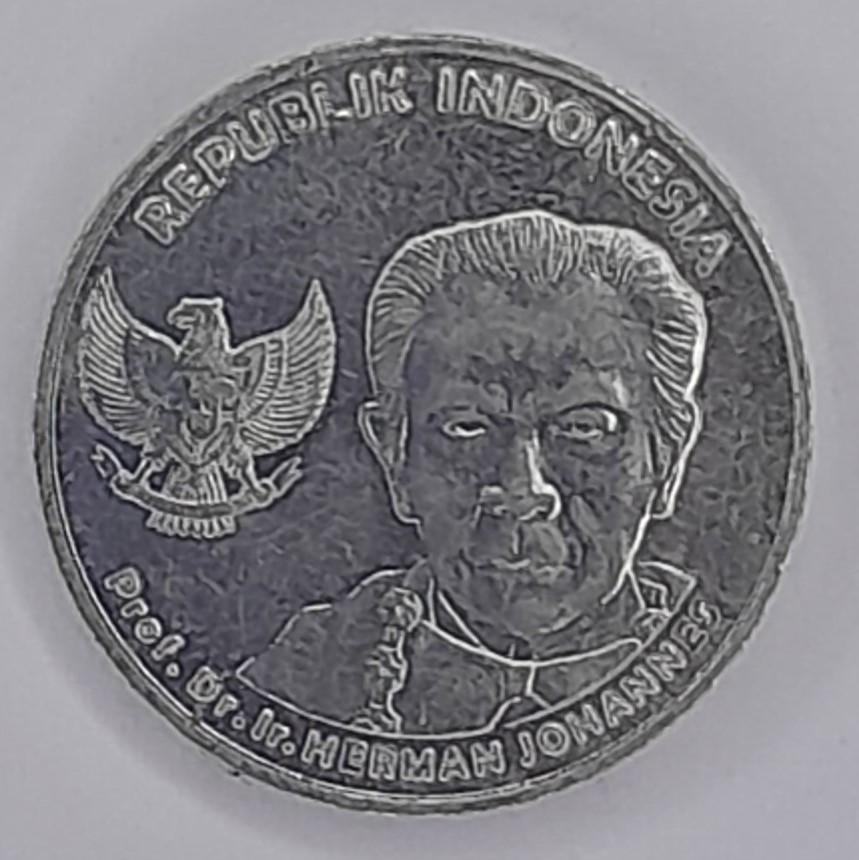coin_100_e2016: (27, 27, 819, 819)
